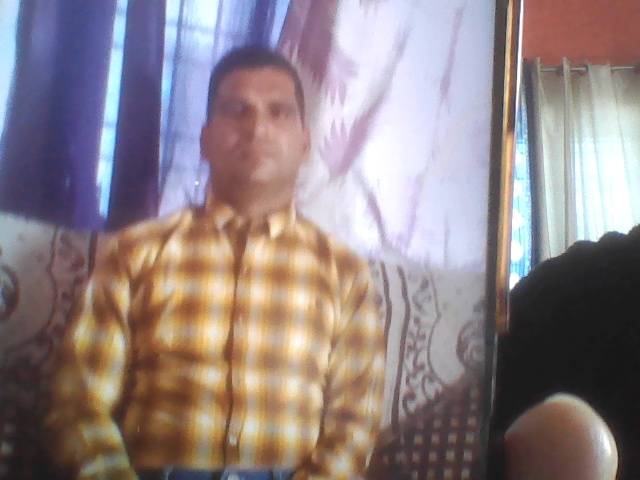fake: (203, 25, 320, 191)
